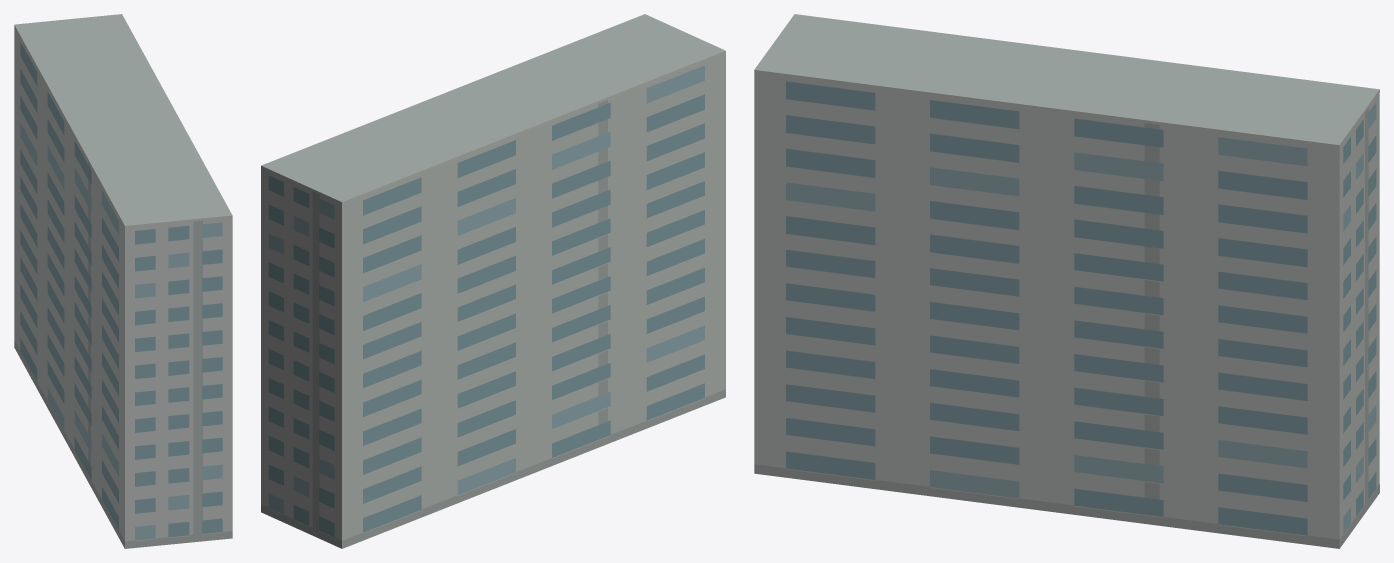
The model's file is residential-6251bde6-facd-40d8-b043-300aecfc52ab.glb.
3 views of the same model, side by side, from view 1: azimuth 30°, elevation 25°; view 2: azimuth 150°, elevation 25°; view 3: azimuth 270°, elevation 25° (orthographic). The views are drawn at different scales.
Visible parts, largest first — view 1: residential-6251bde6-facd-40d8-b043-300aecfc52ab.tmp; view 2: residential-6251bde6-facd-40d8-b043-300aecfc52ab.tmp; view 3: residential-6251bde6-facd-40d8-b043-300aecfc52ab.tmp.
Part boxes in pixels (box(x1,y1,x2,y2)): residential-6251bde6-facd-40d8-b043-300aecfc52ab.tmp: box(14, 14, 232, 548); residential-6251bde6-facd-40d8-b043-300aecfc52ab.tmp: box(261, 14, 725, 548); residential-6251bde6-facd-40d8-b043-300aecfc52ab.tmp: box(754, 14, 1379, 548).
Size of the model in its own units: 23.7 by 34 by 47.76.
